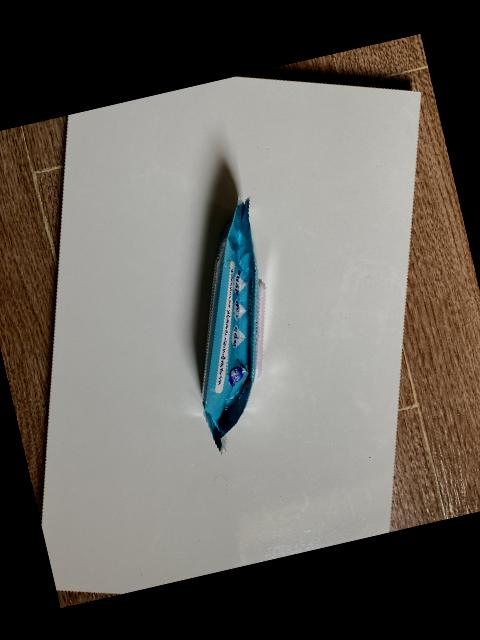Let-green_alcohol_wipes: (202, 196, 265, 452)
